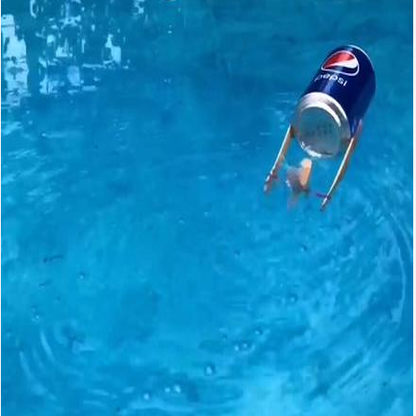can: (280, 38, 385, 157)
